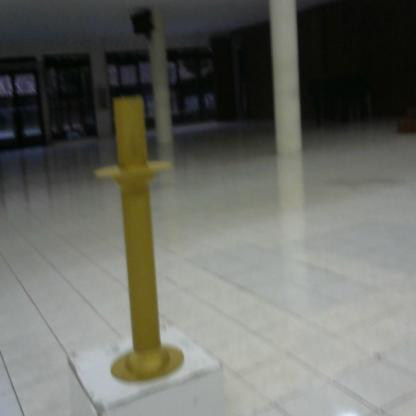pole: (87, 87, 195, 396)
